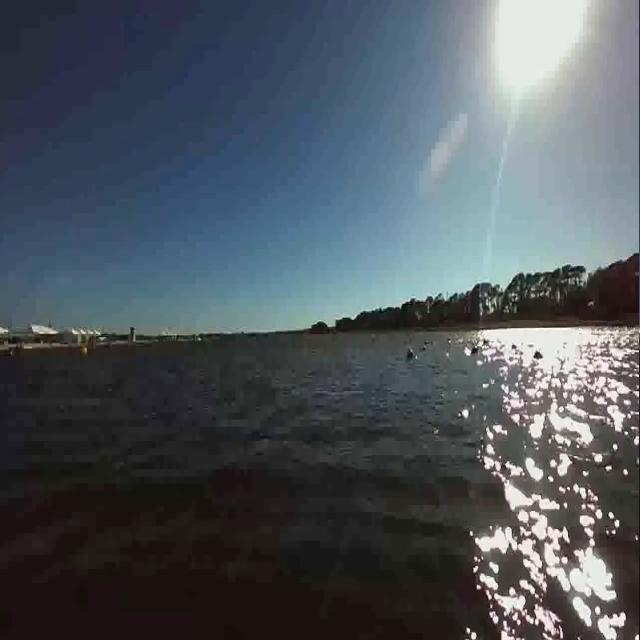black-buoy: (406, 344, 416, 364)
